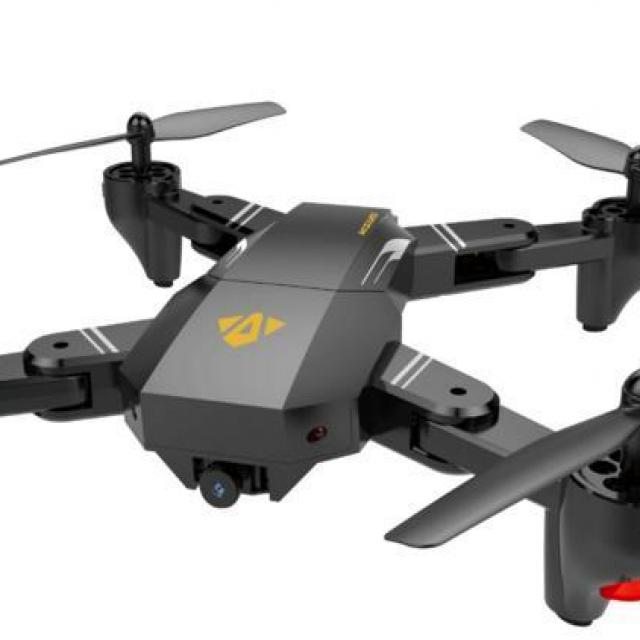drone: (0, 95, 640, 612)
